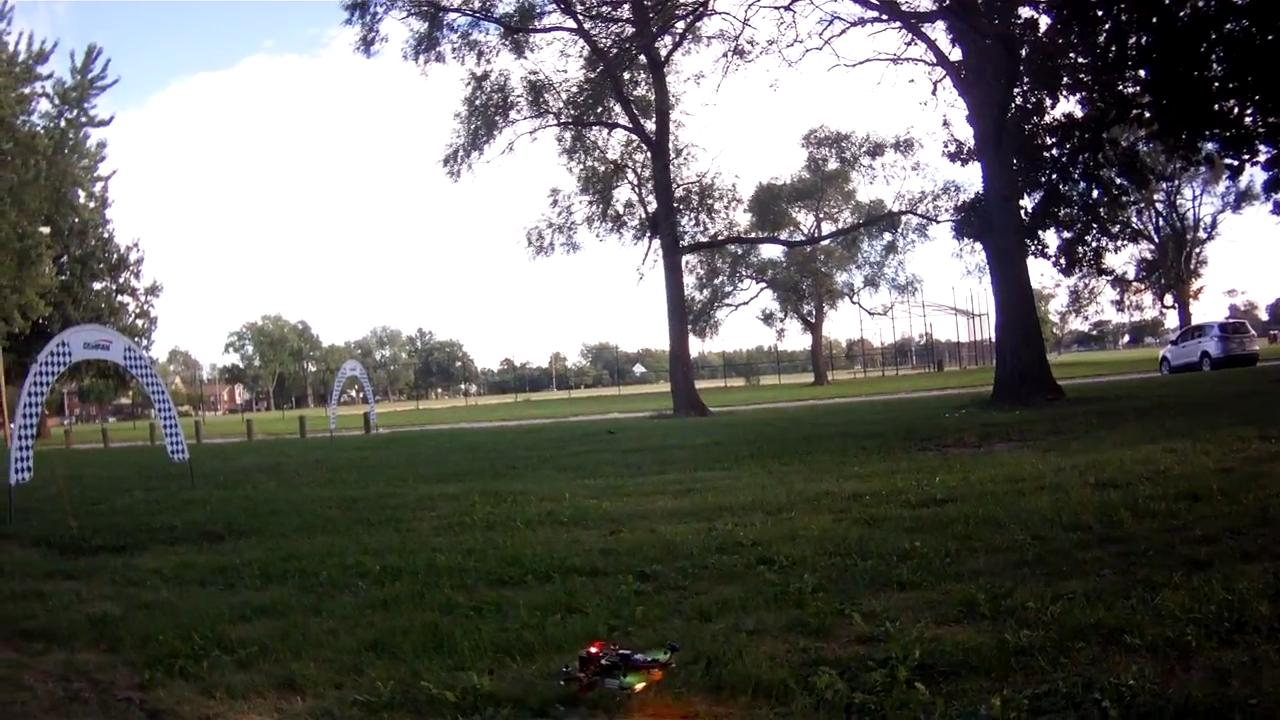gate: (5, 317, 190, 487), (323, 359, 378, 430)
